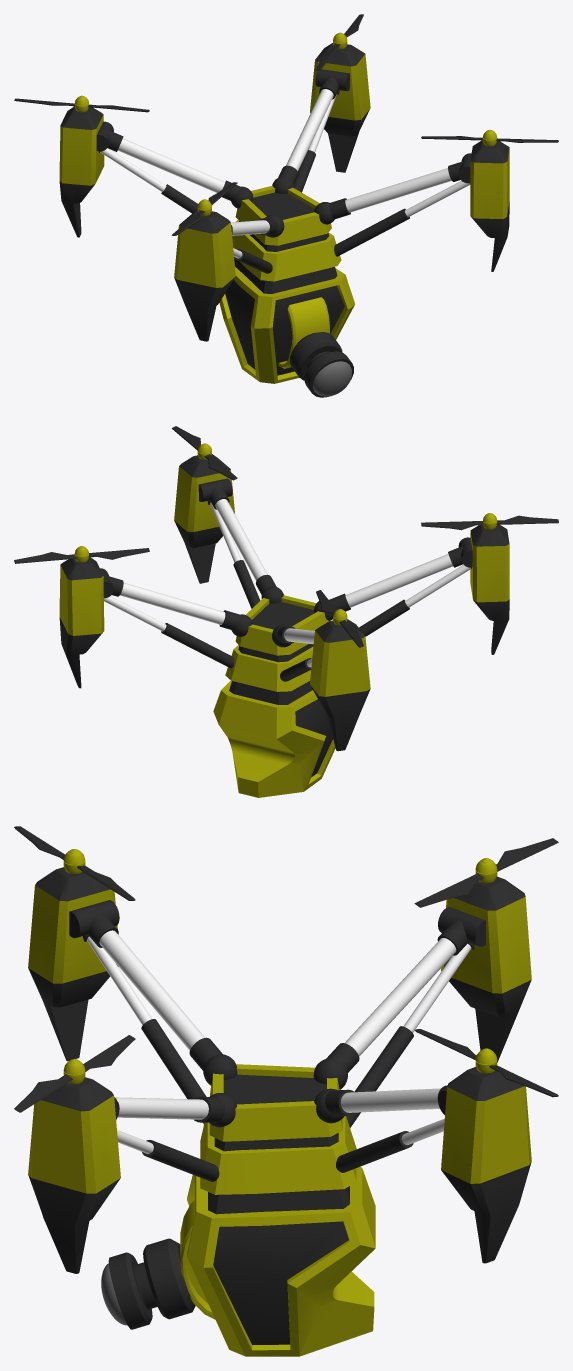
Rendered from drone.fbx.
3 renders of one model, top to bottom at view 1: azimuth 30°, elevation 25°; view 2: azimuth 150°, elevation 25°; view 3: azimuth 270°, elevation 25°, orthographic. The views are drawn at different scales.
Parts seen in each view (by area): view 1: polySurface183; view 2: polySurface183; view 3: polySurface183.
Boxes of the visible parts, bbox=[...] form: polySurface183: bbox=[14, 14, 558, 397]; polySurface183: bbox=[14, 426, 558, 797]; polySurface183: bbox=[14, 826, 558, 1356].
Size of the model in its own units: 45.05 by 28 by 36.35.
